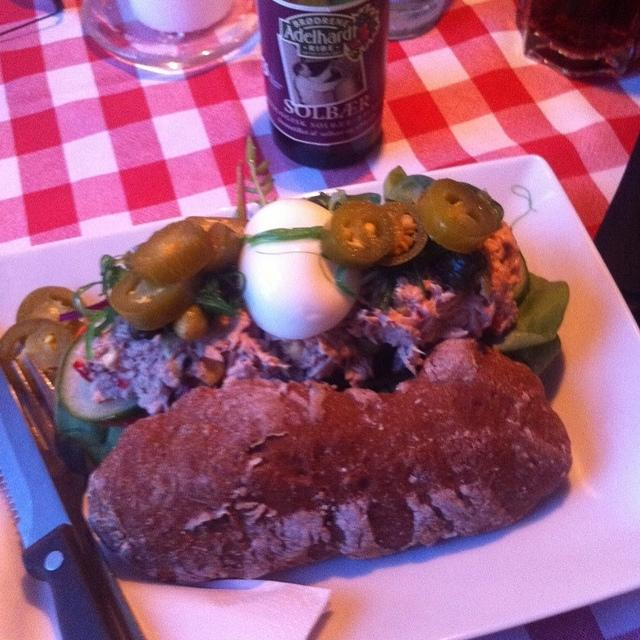cucumber: (510, 250, 531, 308)
